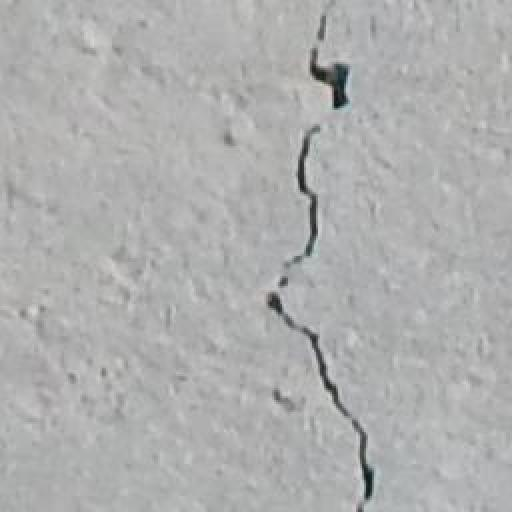spalling: (246, 5, 399, 512)
